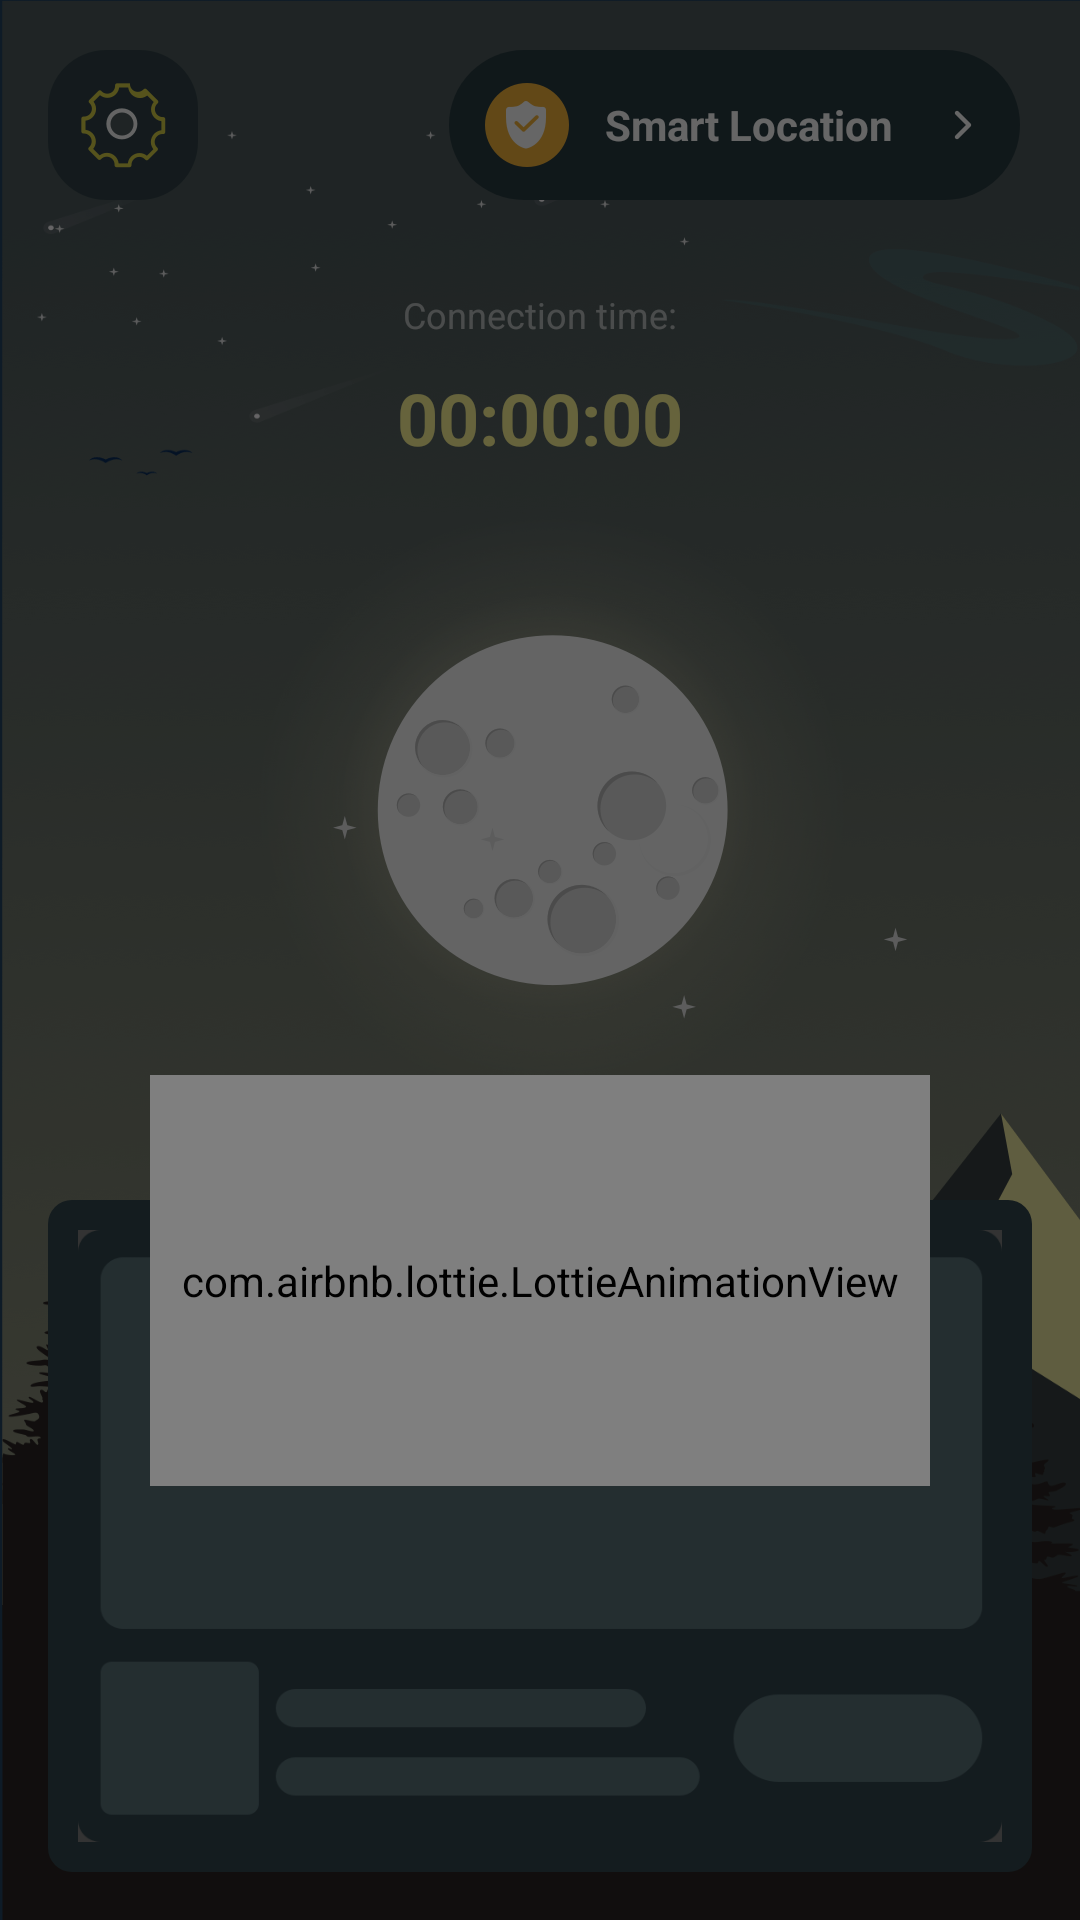

Where to tap for icons on this 1080 x 1920 app screen, as point (x, y):
right: point (963, 125)
set: point (123, 125)
